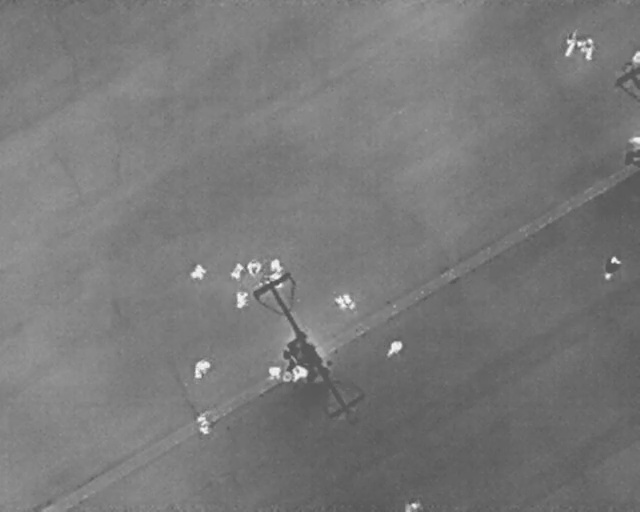Person: (600, 252, 626, 282), (381, 336, 405, 361), (560, 30, 580, 59), (332, 290, 357, 312), (194, 412, 215, 438), (227, 261, 246, 281), (579, 36, 594, 60), (194, 359, 210, 380), (190, 262, 206, 281), (235, 290, 249, 309), (246, 258, 261, 275), (293, 366, 307, 383), (267, 366, 281, 381), (406, 498, 422, 511), (270, 258, 282, 272)
